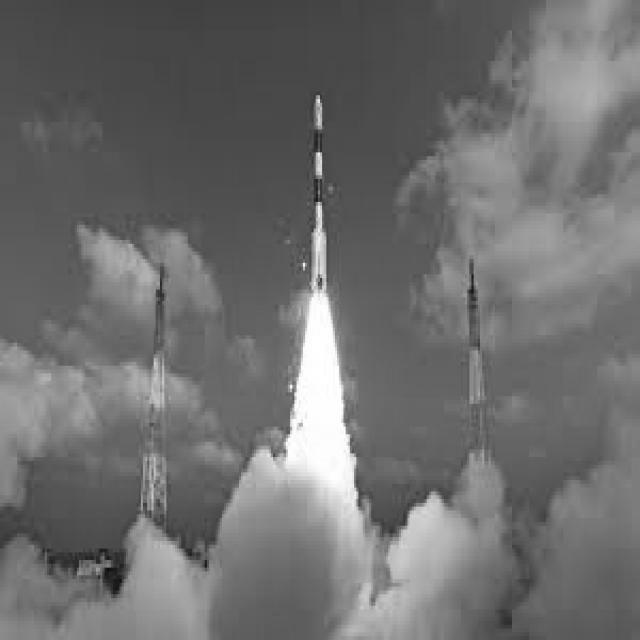missile: (304, 89, 331, 310)
